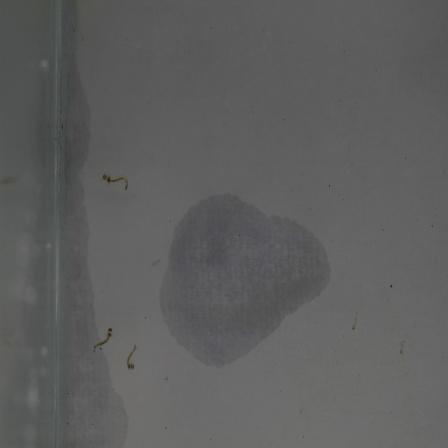Jentik-Nyamuk: (86, 322, 115, 356), (119, 340, 143, 376), (100, 169, 131, 195)
